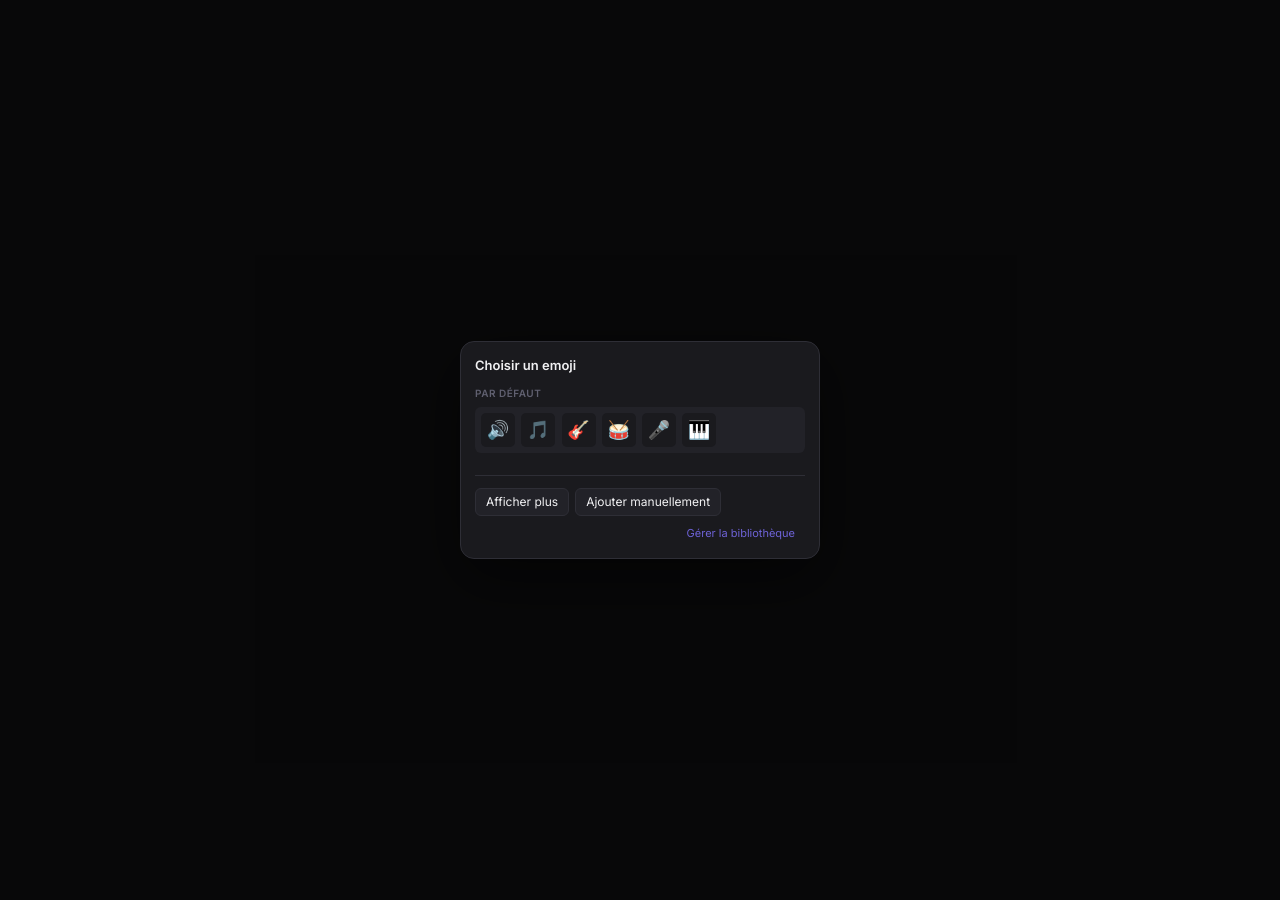
Scenario: EmojiPicker > Show more/less › clic "Afficher plus" passe en mode expanded
Click the button with test id "emoji-picker-show-more-button". click: (522, 502)
box: [475,488,569,516]
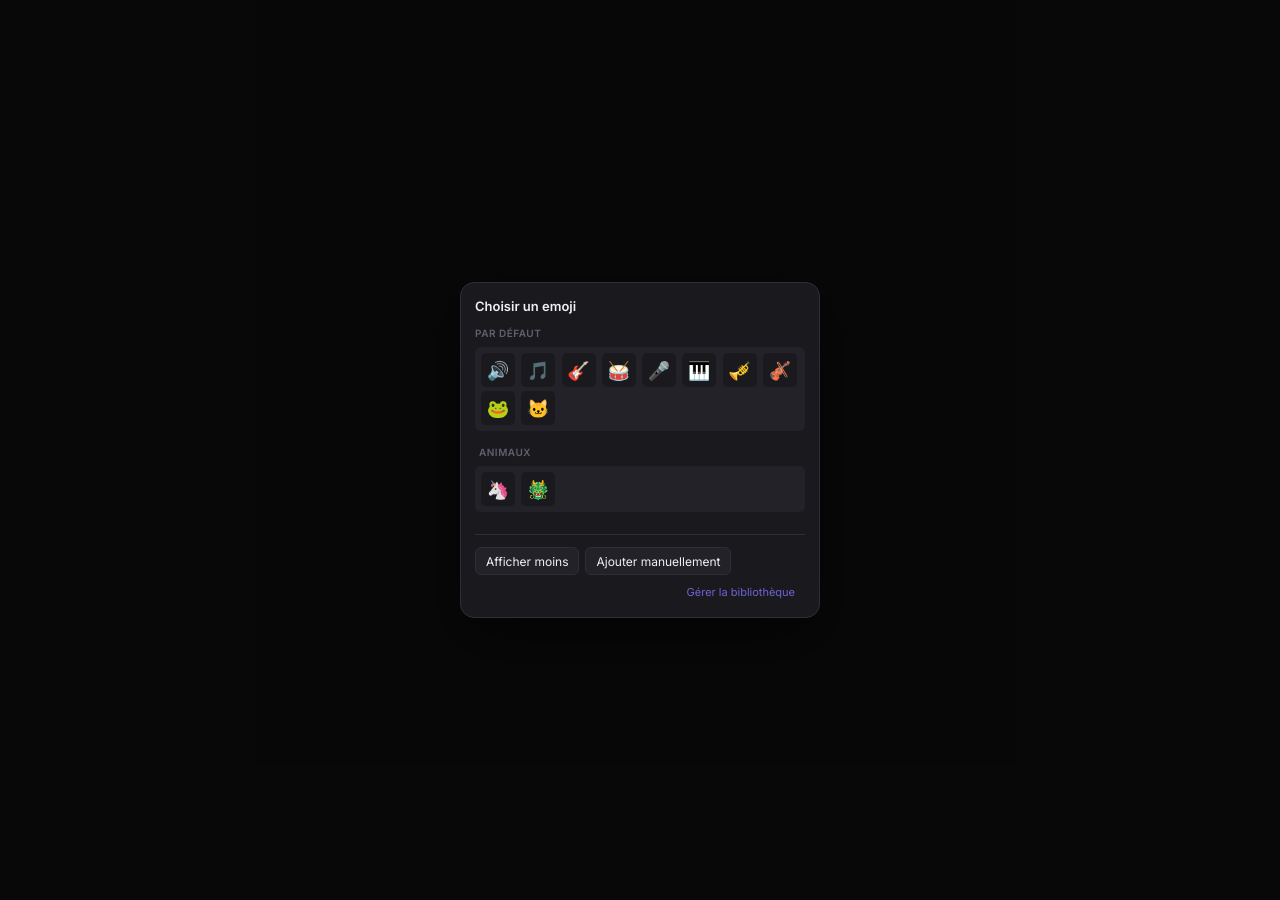
Result: the button with test id "emoji-picker-show-less-button" is shown at [475,547,580,575]
